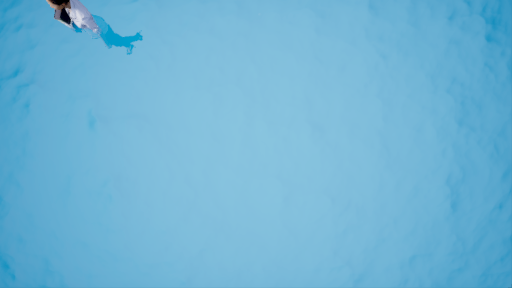person: (47, 2, 148, 68)
